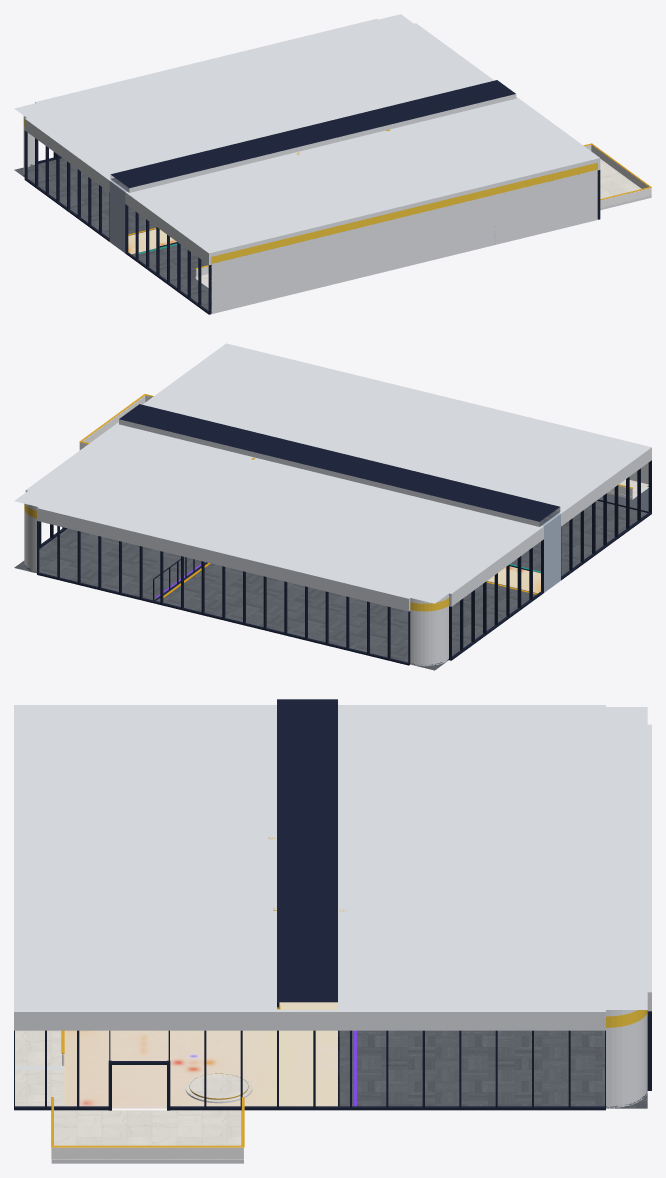
File: Hub_Architecture.fbx
3 views of the same model, one above another, from view 1: azimuth 30°, elevation 25°; view 2: azimuth 150°, elevation 25°; view 3: azimuth 270°, elevation 25° (orthographic). The views are drawn at different scales.
Parts seen in each view (by area): view 1: Arch_Ceiling, Arch_Walls, Arch_Floor_Carpet, Arch_Frames, Arch_Terrace, Arch_Floor_Marble, Arch_Floor_Reflection; view 2: Arch_Ceiling, Arch_Floor_Carpet, Arch_Walls, Arch_Frames, Arch_Floor_Reflection, Arch_Terrace; view 3: Arch_Ceiling, Arch_Floor_Carpet, Arch_Walls, Arch_Floor_Reflection, Arch_Floor_Marble, Arch_Frames, Arch_Terrace.
Part boxes in pixels (<box>): Arch_Ceiling: <box>14,14,597,252</box>; Arch_Walls: <box>23,18,600,314</box>; Arch_Floor_Carpet: <box>14,158,208,310</box>; Arch_Frames: <box>24,130,600,314</box>; Arch_Terrace: <box>583,143,651,210</box>; Arch_Floor_Marble: <box>196,159,648,285</box>; Arch_Floor_Reflection: <box>128,229,176,254</box>; Arch_Ceiling: <box>14,344,648,603</box>; Arch_Floor_Carpet: <box>14,500,647,670</box>; Arch_Walls: <box>24,343,651,666</box>; Arch_Frames: <box>37,460,651,665</box>; Arch_Floor_Reflection: <box>487,566,540,593</box>; Arch_Terrace: <box>79,394,153,449</box>; Arch_Ceiling: <box>14,699,647,1009</box>; Arch_Floor_Carpet: <box>339,1030,647,1108</box>; Arch_Walls: <box>14,705,651,1108</box>; Arch_Floor_Reflection: <box>64,1002,337,1108</box>; Arch_Floor_Marble: <box>15,1030,252,1159</box>; Arch_Frames: <box>14,1011,651,1110</box>; Arch_Terrace: <box>51,1097,244,1163</box>.
Size of the model in its own units: 202 by 29 by 152.
5 materials, 5 textured.
